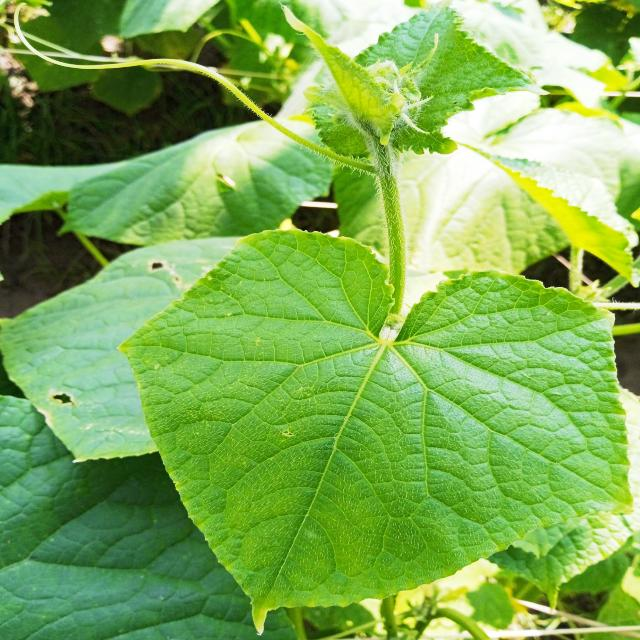Fresh-Leaf: (116, 228, 633, 639)
